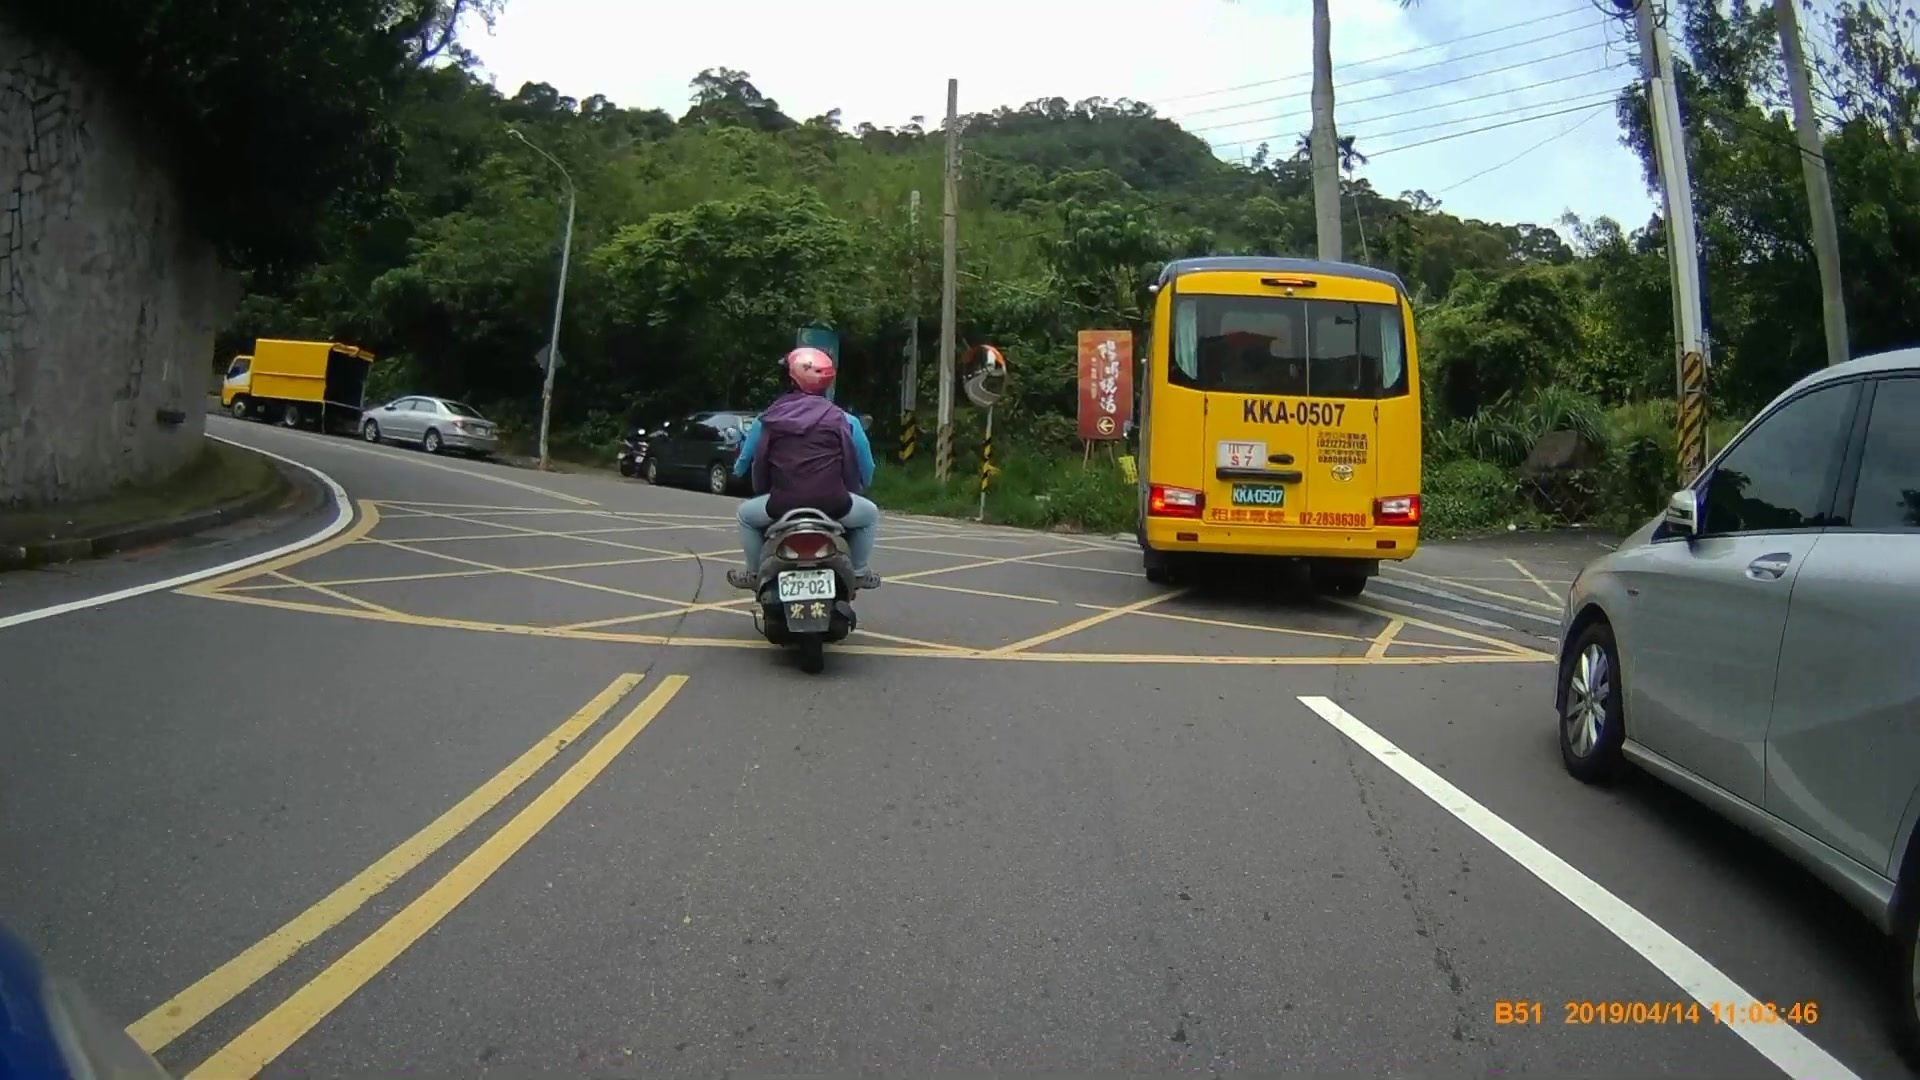License_plate: (767, 569, 841, 599), (1228, 479, 1287, 511)
